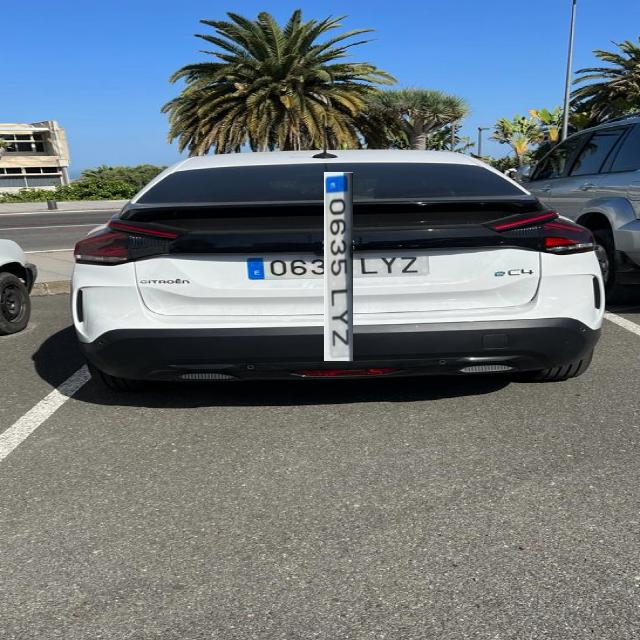License-Plate: (284, 212, 393, 321)
